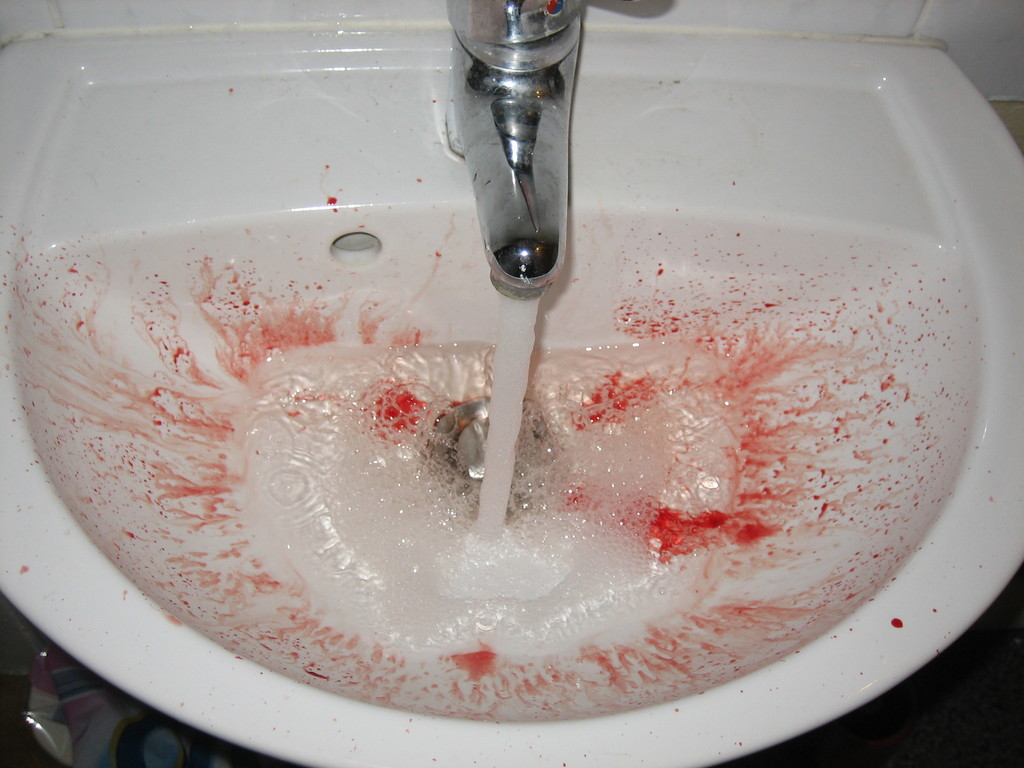tap: (432, 3, 618, 321)
